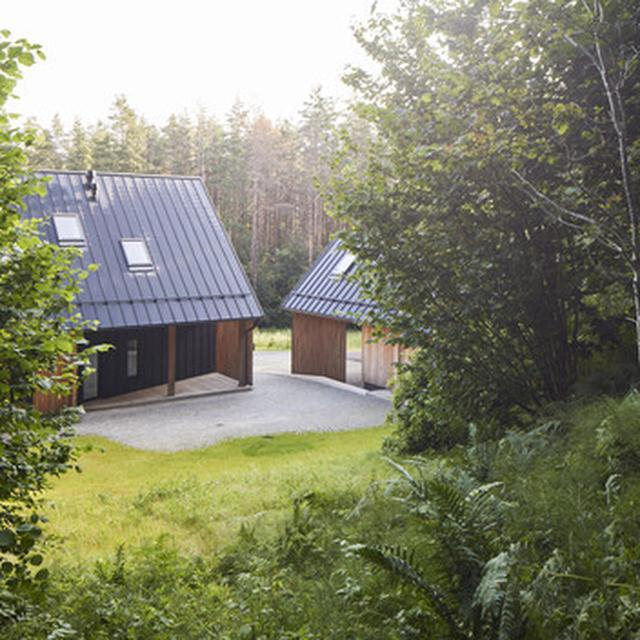building: (21, 167, 268, 410), (284, 235, 404, 401)
